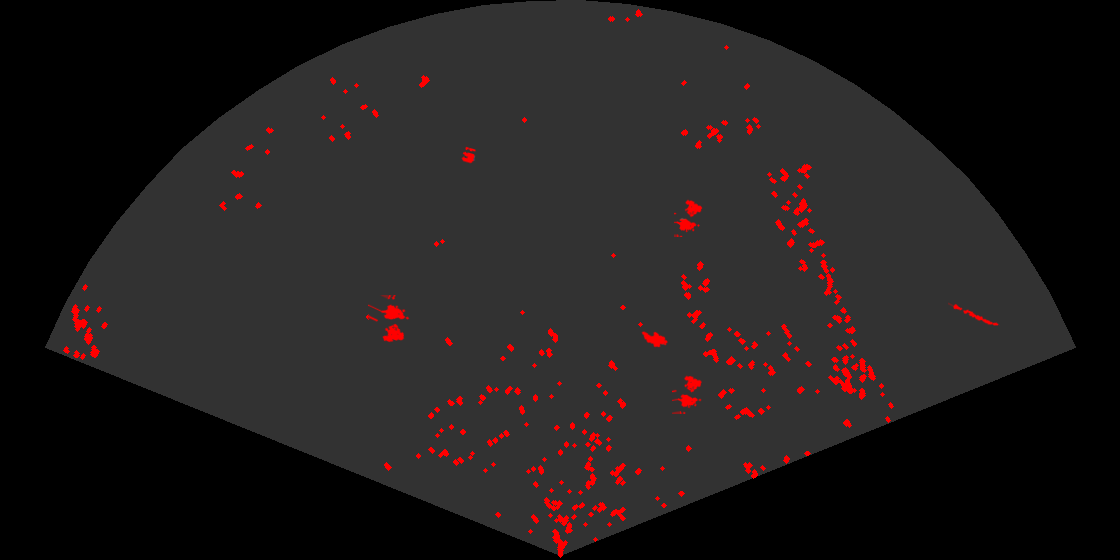AUV: (640, 330, 669, 349)
ball: (460, 145, 478, 165)
cage: (368, 295, 411, 344), (672, 374, 703, 414), (674, 198, 704, 237)
chain: (948, 301, 1000, 328)
